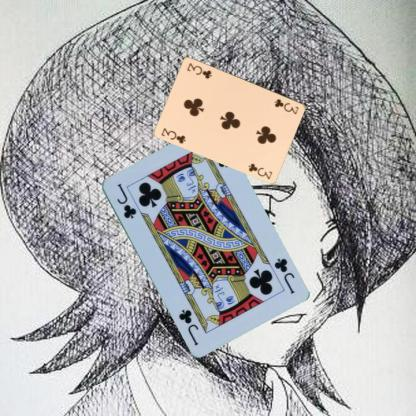3c: (159, 125, 187, 145), (272, 96, 300, 115)
Jc: (271, 255, 296, 295), (114, 180, 137, 220)
